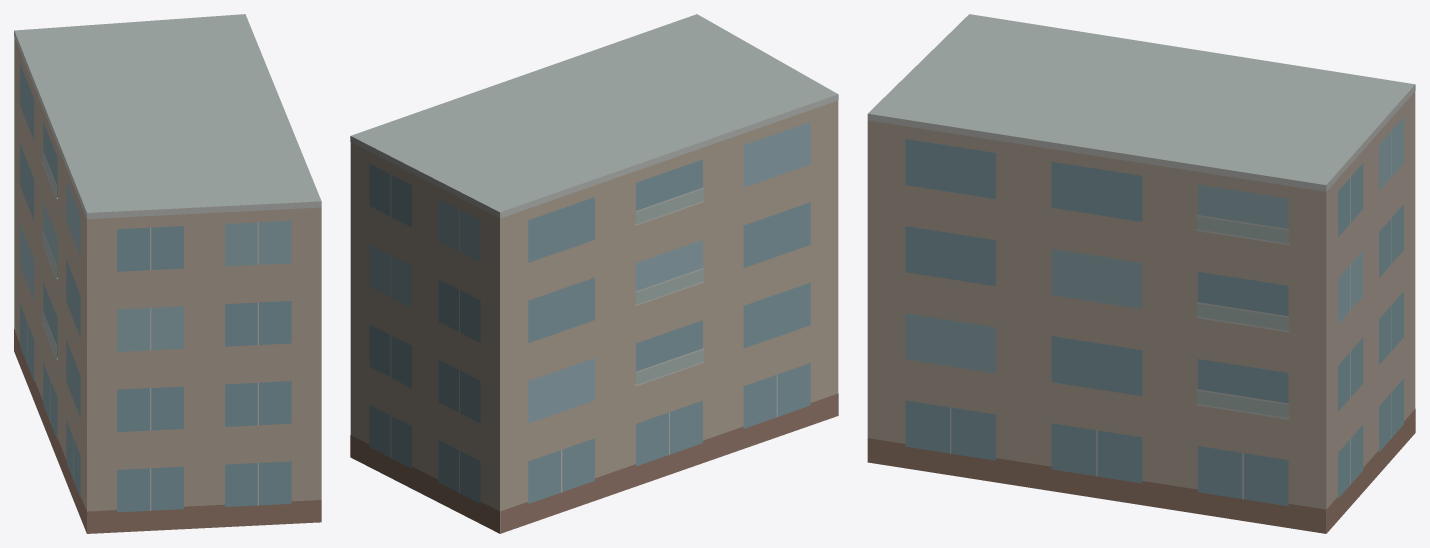
Rendered from survey-upis-32718957.glb.
3 renders of one model, left to right at view 1: azimuth 30°, elevation 25°; view 2: azimuth 150°, elevation 25°; view 3: azimuth 270°, elevation 25°, orthographic. The views are drawn at different scales.
Visible parts, largest first — view 1: survey-upis-32718957.tmp; view 2: survey-upis-32718957.tmp; view 3: survey-upis-32718957.tmp.
Part boxes in pixels (bbox=[...]): survey-upis-32718957.tmp: bbox=[14, 14, 321, 533]; survey-upis-32718957.tmp: bbox=[350, 14, 838, 533]; survey-upis-32718957.tmp: bbox=[867, 14, 1415, 533].
Size of the model in its own units: 13.48 by 12.8 by 18.23.
